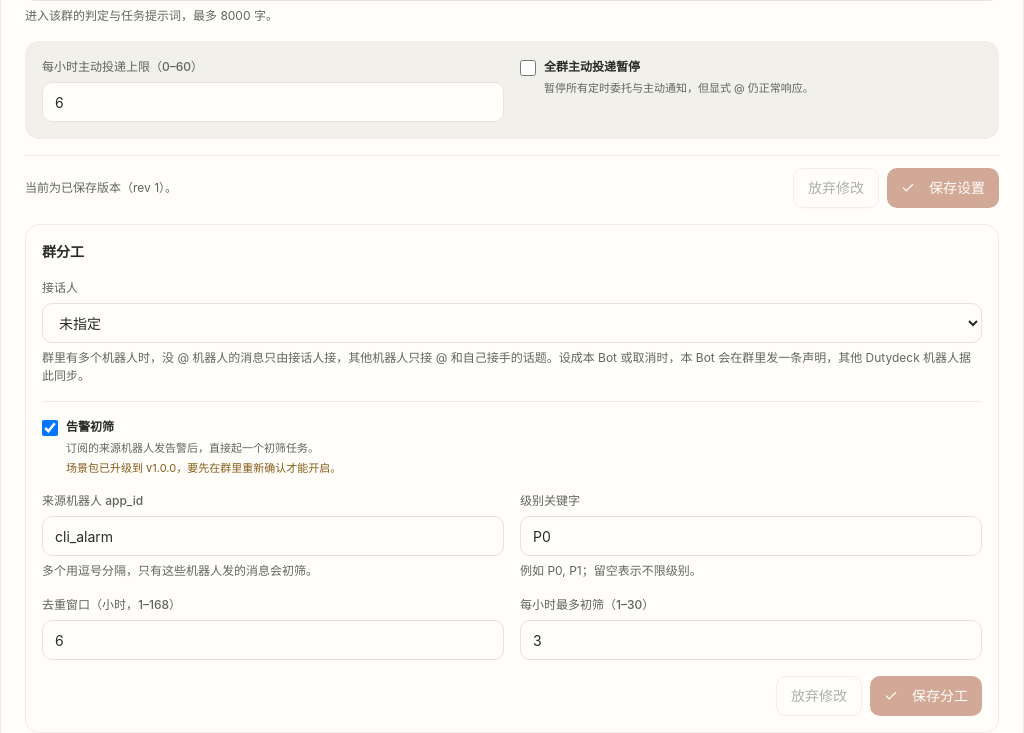
Test: 群分工：接话人与场景包 › 包大版本过期时提示要在群里重新确认，仍可以关掉；服务端校验失败照原话显示，草稿保留
(page scrolled)
expect the text "场景包已升级到 v1.0.0，要先在群里重新确认才能开启。" is shown: met, box [66,460,341,476]
Click the checkbox labelled "告警初筛 订阅的来源机器人发告警后，直接起一个初筛任务。 场景包已升级到 v1.0.0，要先在群里重新确认才能开启。" at point(50, 428), box [42,420,58,436]
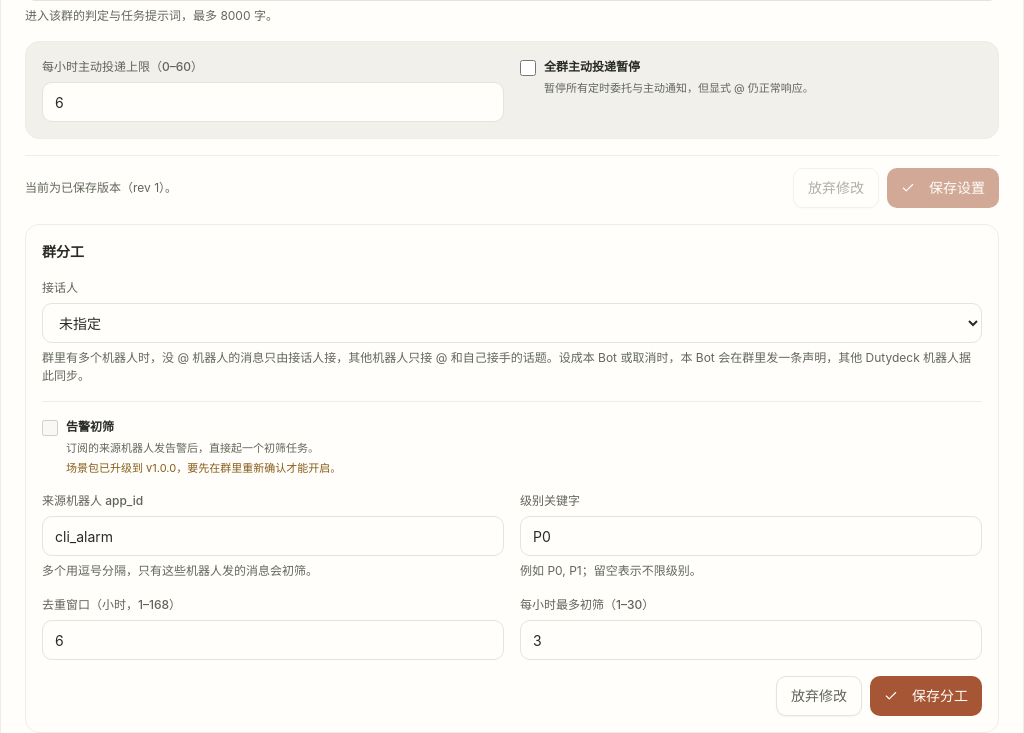
Type ", LEVEL_TOO_LONG_FOR_THE_PACK_LIMIT" into the field labelled "级别关键字" at point(751, 536), box [520,516,982,556]
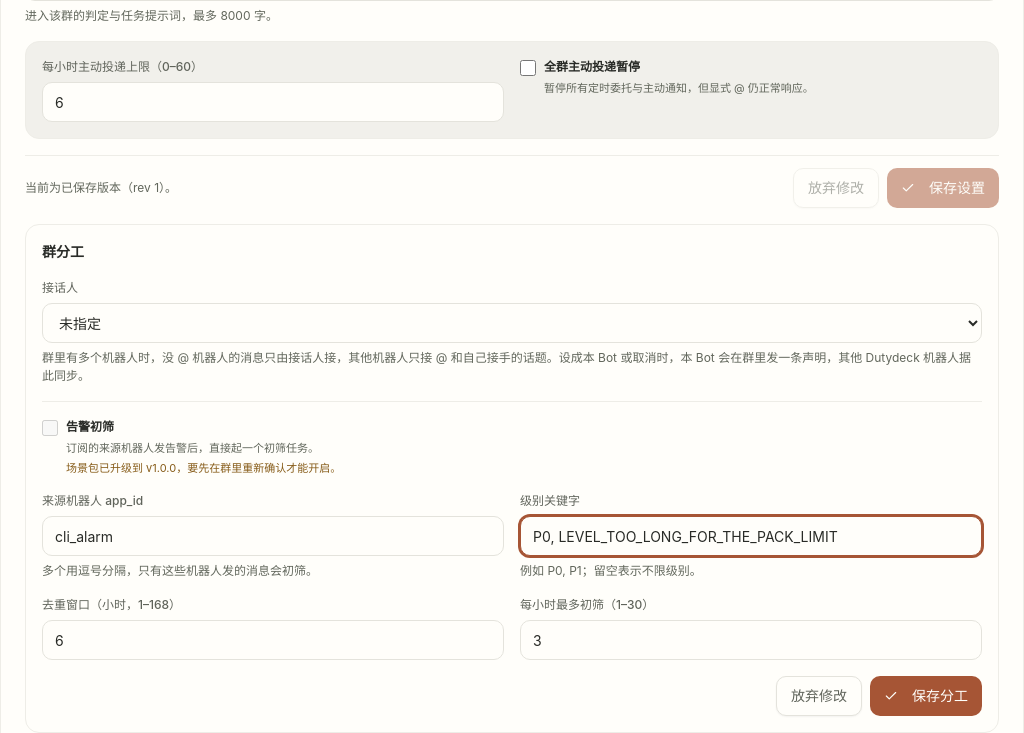
Click the button "保存分工" at point(926, 696), box [870,676,982,716]
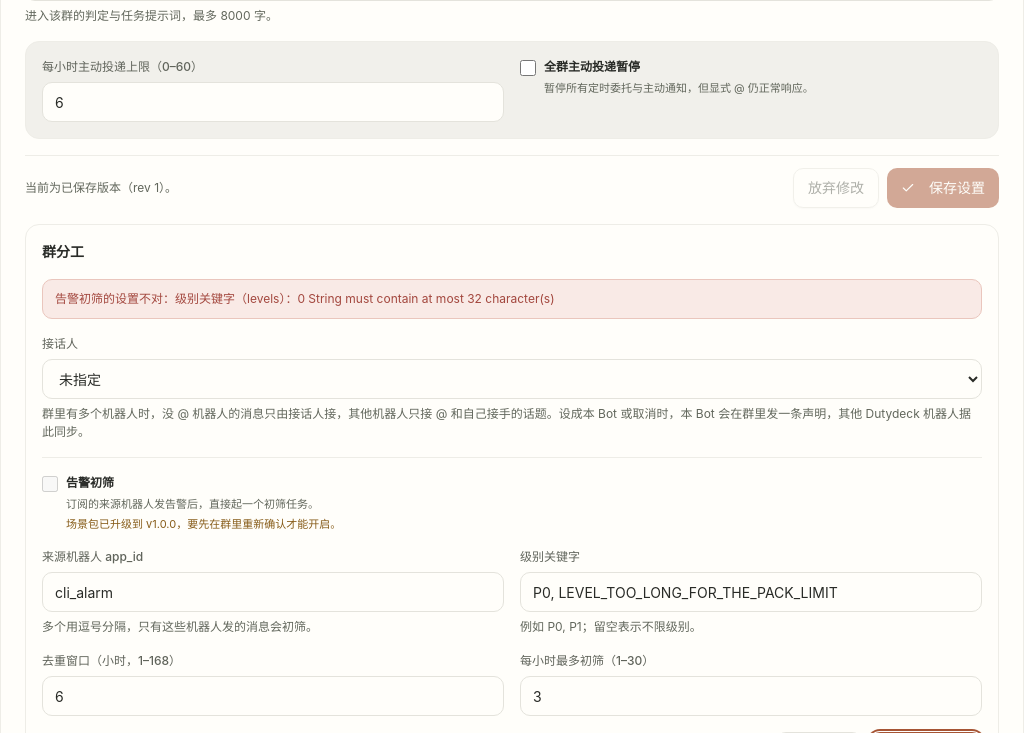
expect the checkbox labelled "告警初筛 订阅的来源机器人发告警后，直接起一个初筛任务。 场景包已升级到 v1.0.0，要先在群里重新确认才能开启。" is not checked: met, box [42,476,58,492]
expect the field labelled "级别关键字" holds "P0, LEVEL_TOO_LONG_FOR_THE_PACK_LIMIT": met, box [520,572,982,612]
expect the text "告警初筛的设置不对：级别关键字（levels）：0 String must contain at most 32 character(s)" is shown: met, box [55,291,554,306]
